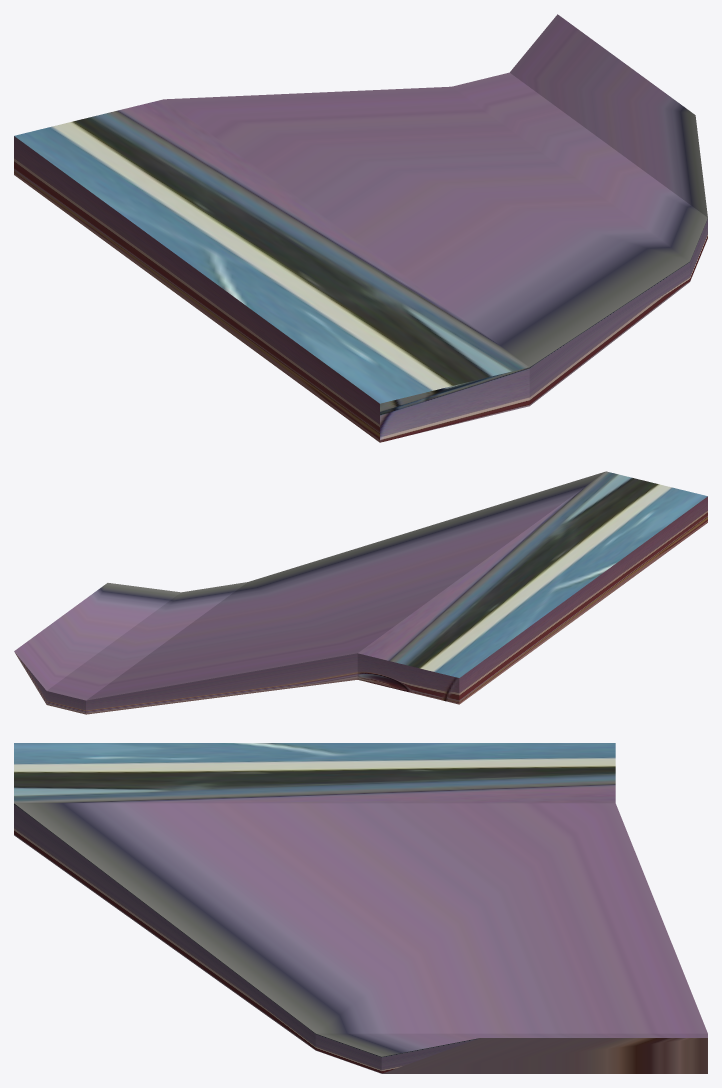
3 views of the same model, one above another, from view 1: azimuth 30°, elevation 25°; view 2: azimuth 150°, elevation 25°; view 3: azimuth 270°, elevation 25° (orthographic). The views are drawn at different scales.
Visible parts, largest first — view 1: Wing-2_Cube.008; view 2: Wing-2_Cube.008; view 3: Wing-2_Cube.008.
Part boxes in pixels (box(x1,y1,x2,y2)): Wing-2_Cube.008: box(14, 14, 707, 442); Wing-2_Cube.008: box(14, 471, 707, 714); Wing-2_Cube.008: box(14, 743, 707, 1073).
Bounding box in the file's own units: 6.06 × 1.28 × 7.38.
